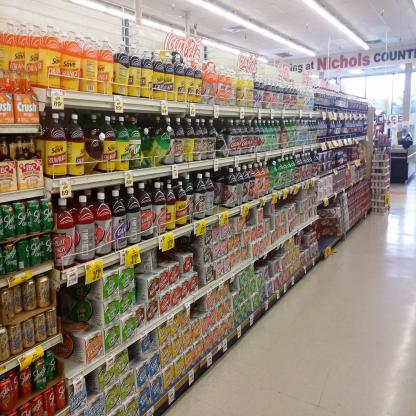Void: (59, 286, 98, 334), (180, 235, 207, 256), (83, 379, 100, 398), (189, 304, 205, 316), (127, 344, 138, 360)
